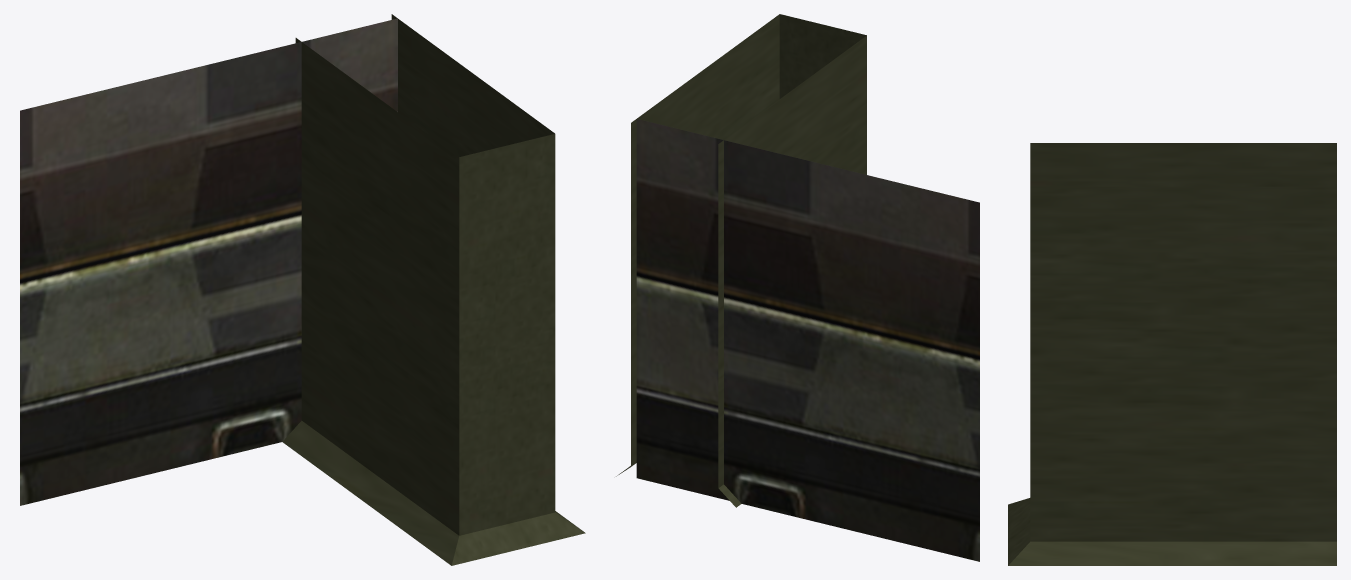
Rendered from CubeBaseFrontDoorMR.fbx.
3 renders of one model, left to right at view 1: azimuth 30°, elevation 25°; view 2: azimuth 150°, elevation 25°; view 3: azimuth 270°, elevation 25°, orthographic. The views are drawn at different scales.
Parts seen in each view (by area): view 1: polySurface2, pCube9; view 2: pCube9, polySurface2; view 3: polySurface2.
Boxes of the visible parts, <box> form: polySurface2: <box>282,14,585,565</box>; pCube9: <box>20,18,397,505</box>; pCube9: <box>636,119,979,561</box>; polySurface2: <box>616,14,866,507</box>; polySurface2: <box>1008,143,1336,565</box>.
Size of the model in its own units: 1.05 by 1 by 0.8041.
Materials: 2 (2 with a texture image).
